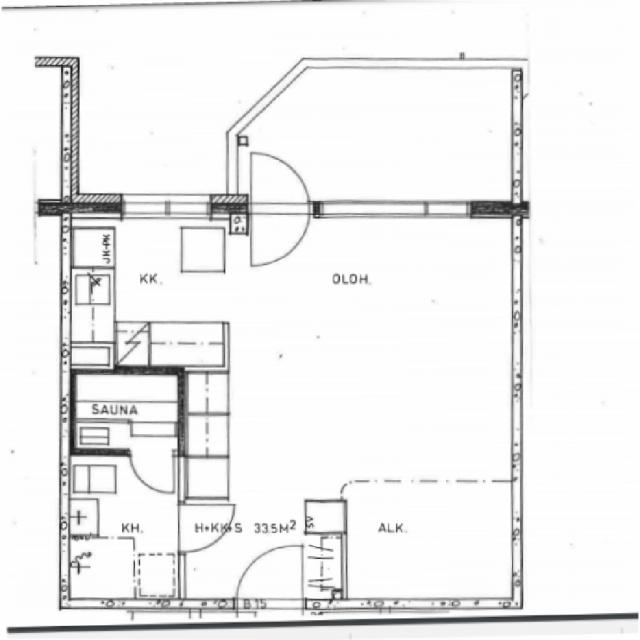door: (238, 534, 304, 608), (251, 145, 309, 217), (251, 201, 309, 273), (180, 504, 233, 551), (130, 449, 174, 498)
